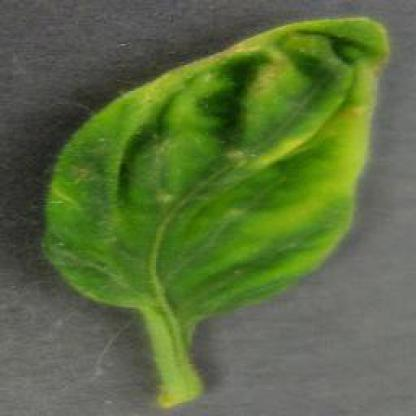good leaf: (4, 6, 393, 382)
